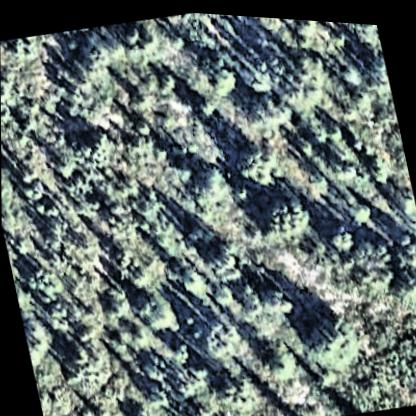tree-top: (255, 185, 316, 242), (229, 134, 280, 187), (311, 301, 358, 351), (138, 286, 178, 330), (201, 233, 240, 275), (260, 339, 298, 381), (191, 157, 228, 200), (239, 55, 277, 96), (18, 256, 54, 296), (207, 56, 240, 97), (181, 57, 215, 96), (209, 367, 244, 404), (173, 260, 209, 295), (21, 316, 51, 358), (361, 46, 390, 86), (48, 146, 80, 181), (360, 147, 393, 180), (391, 175, 416, 218), (326, 219, 359, 250), (0, 35, 30, 63), (125, 259, 153, 288), (337, 54, 364, 84), (84, 40, 111, 70), (202, 329, 229, 358), (209, 278, 236, 305), (346, 192, 373, 218), (0, 73, 17, 112), (393, 219, 416, 246), (292, 15, 323, 34), (260, 284, 282, 310), (148, 382, 174, 403), (21, 176, 44, 199), (10, 232, 32, 256), (119, 25, 143, 44), (68, 342, 87, 365), (355, 19, 377, 26)
